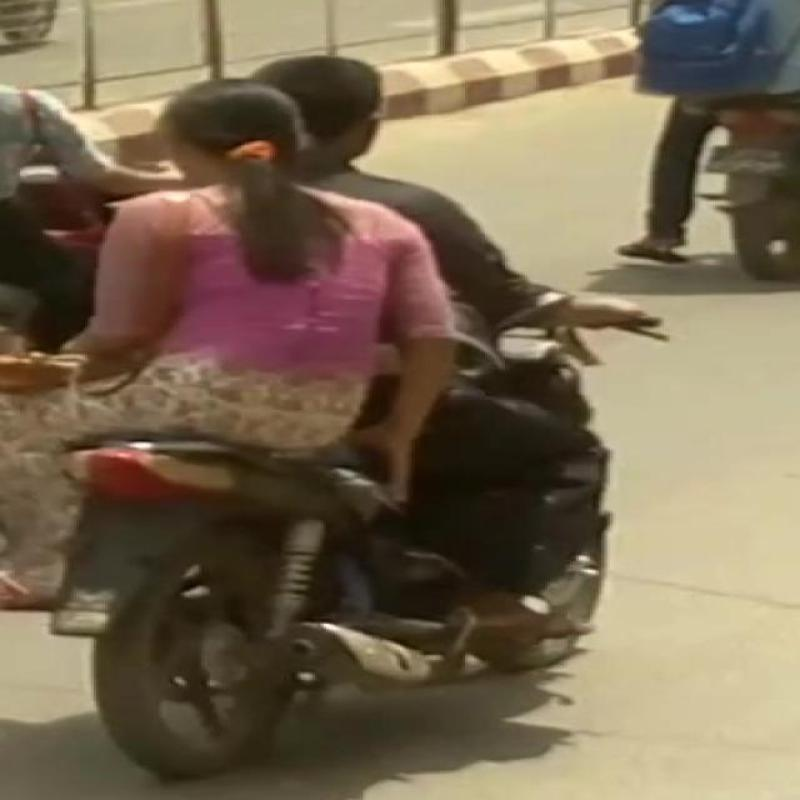nohelmet: (141, 82, 389, 184)
